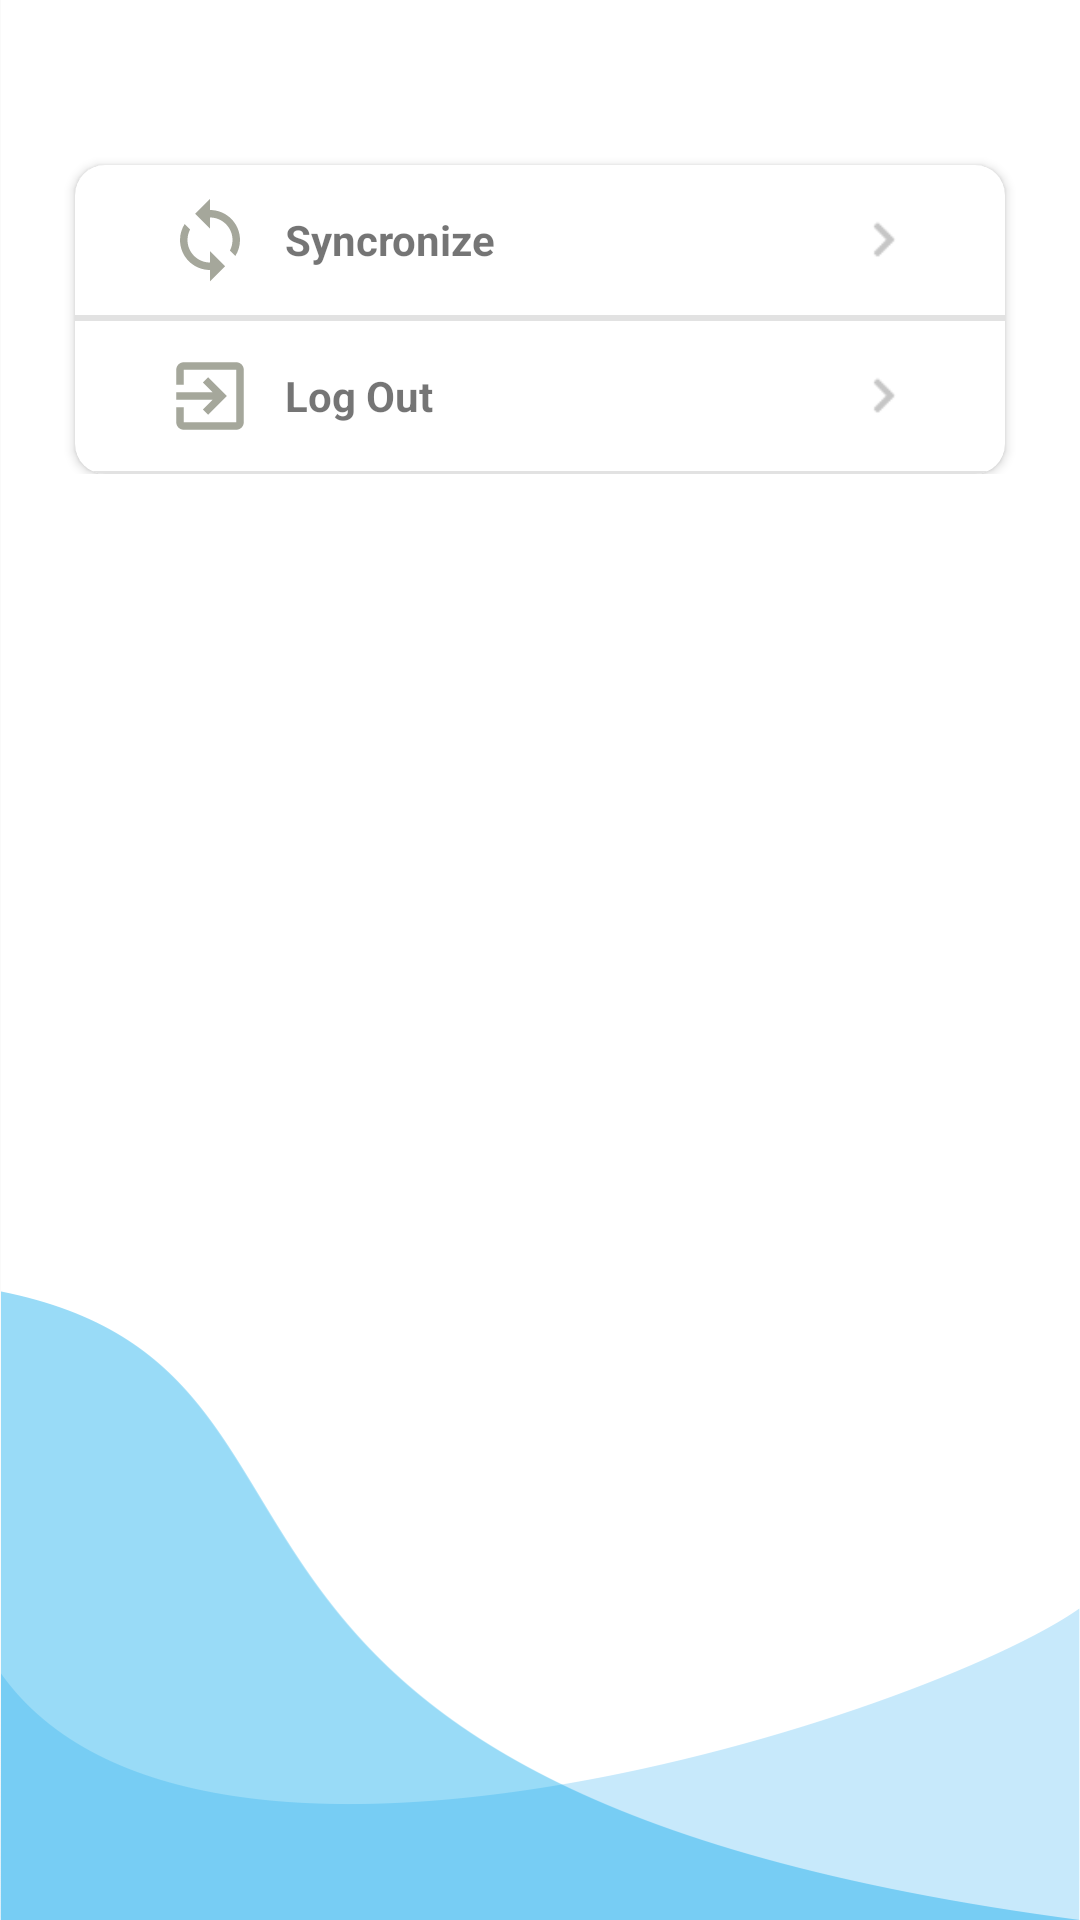

Named icons in this screenshot (1080 × 1920) and their bounding boxes, bbox=(x1, y1, x2, y2):
exit to app: bbox=(176, 362, 244, 430)
next: bbox=(874, 223, 894, 256), bbox=(874, 379, 894, 412)
